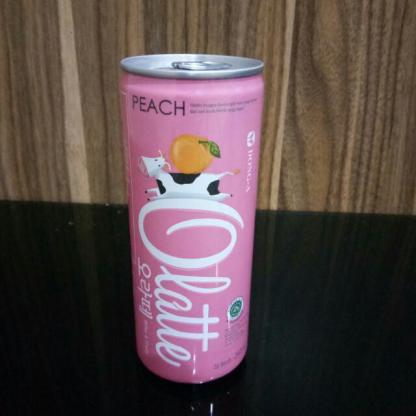can: (117, 52, 270, 391)
